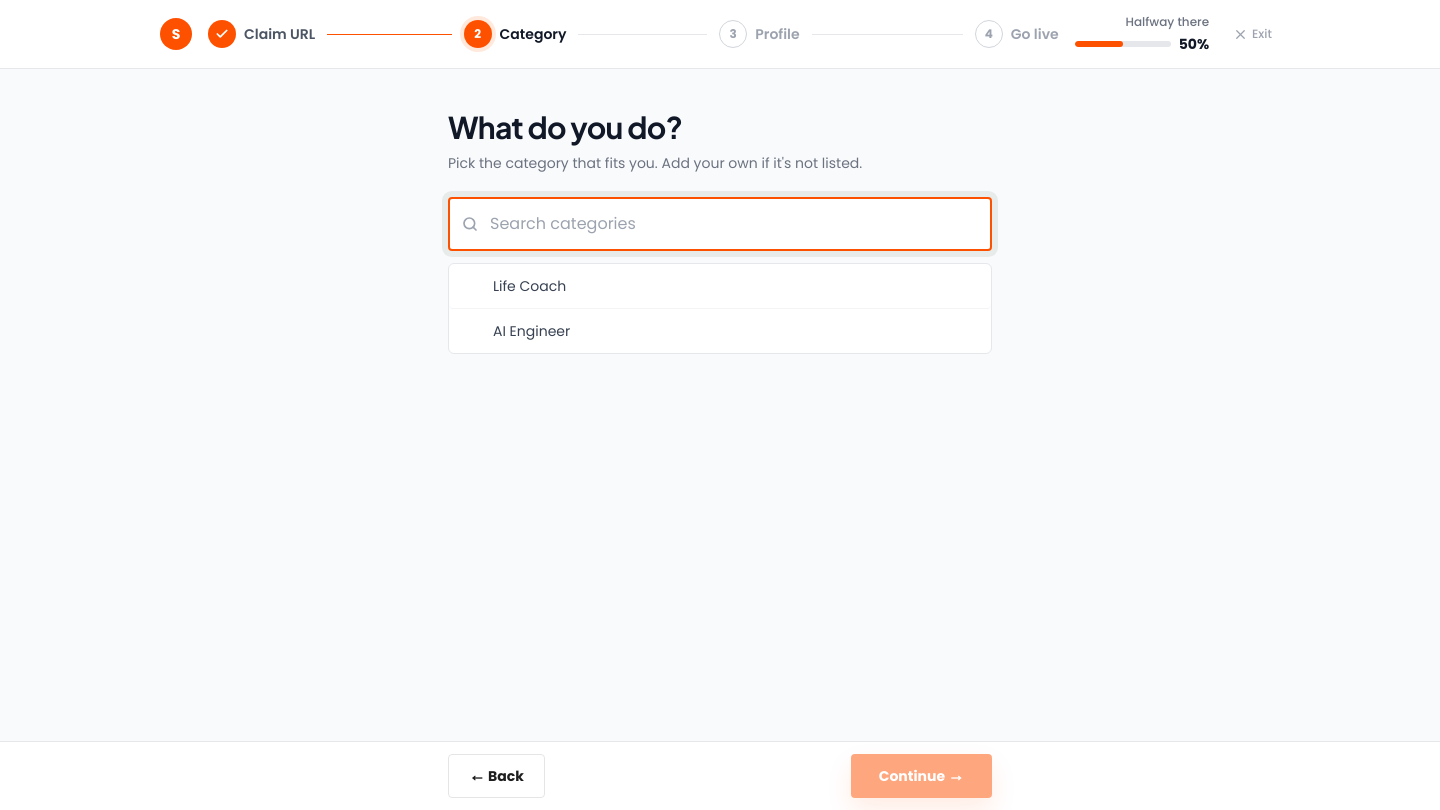
Scenario: (a) typing filters the list
Expected: the text "Life Coach" is shown, [493, 276, 566, 296]
Expected: the text "AI Engineer" is shown, [493, 321, 570, 341]
// Type 'life' — only Life Coach should remain in the scrollable list
Type "life" into the field with placeholder "Search categories" at (720, 224), box [448, 197, 992, 251]
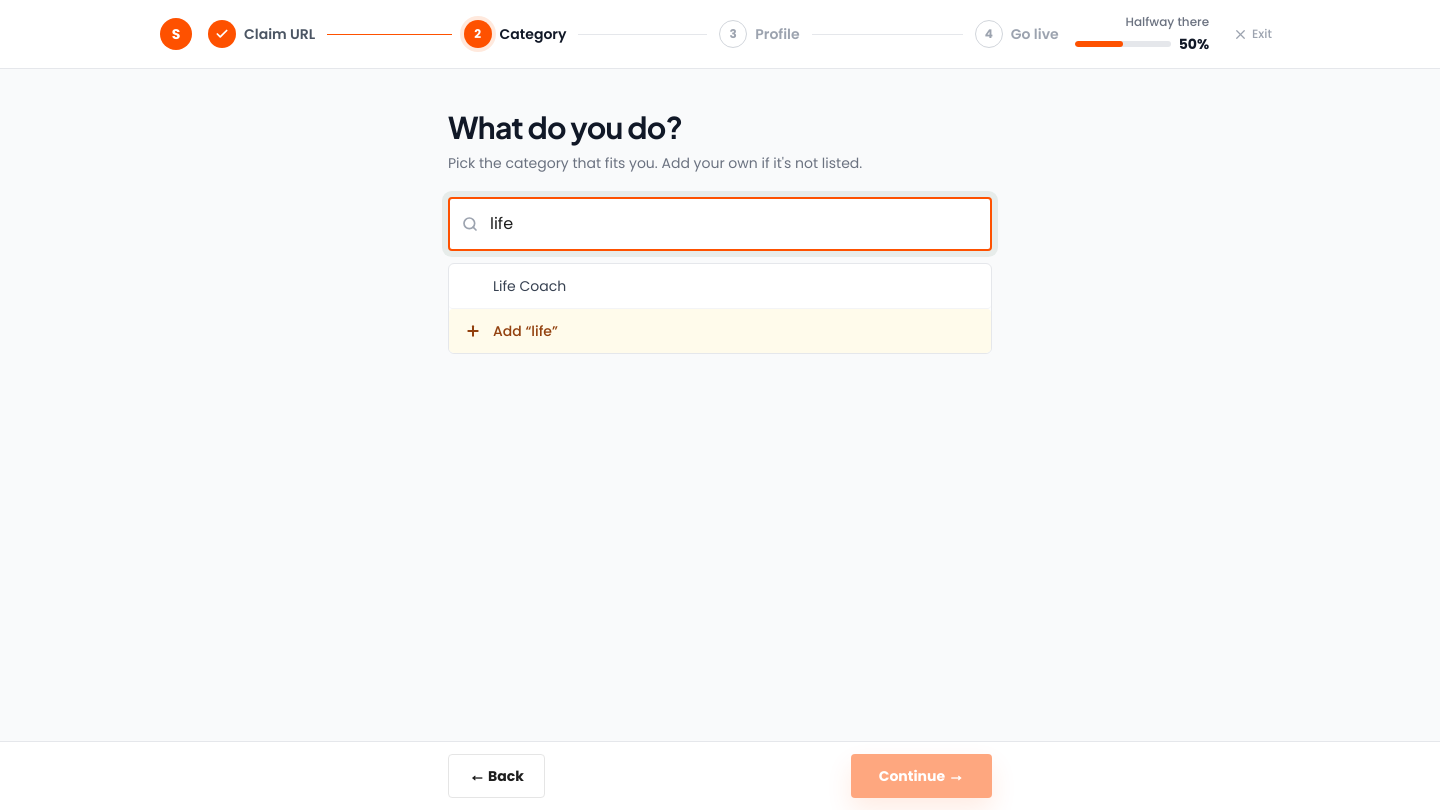
Expected: the text "Life Coach" is shown, [493, 276, 566, 296]
Expected: the button "AI Engineer" is gone
